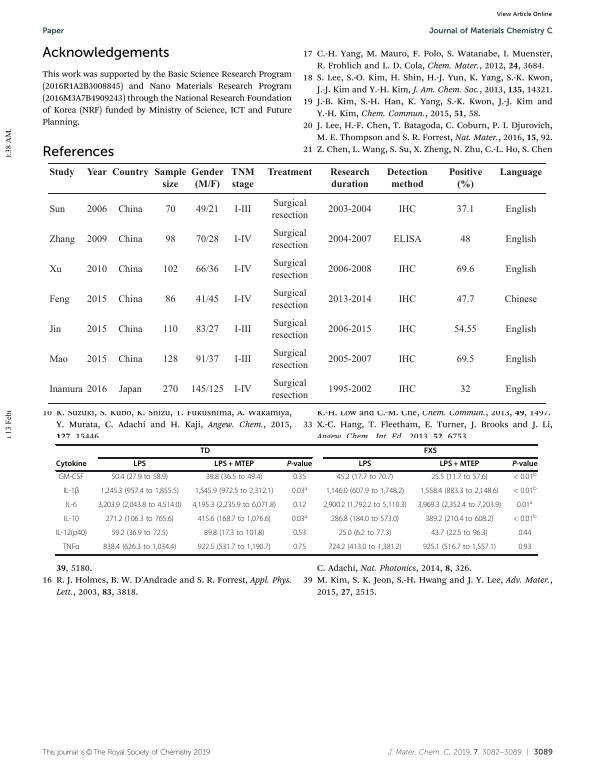borderless: (47, 162, 546, 403), (54, 443, 537, 554)
cell: (386, 168, 428, 191), (329, 168, 370, 191), (270, 228, 309, 252), (270, 199, 309, 222), (270, 258, 309, 281), (270, 288, 309, 311), (270, 318, 309, 341), (270, 348, 309, 371), (270, 378, 309, 401), (191, 501, 277, 511), (322, 501, 408, 511), (97, 501, 182, 511), (417, 501, 502, 511), (448, 168, 483, 191), (100, 487, 180, 497), (194, 487, 274, 497), (325, 487, 405, 497), (419, 487, 499, 497), (153, 168, 187, 191), (190, 168, 224, 191), (197, 515, 272, 525), (102, 543, 177, 553), (197, 543, 272, 553), (327, 543, 402, 553), (422, 543, 497, 553), (105, 515, 175, 525), (330, 515, 400, 525), (424, 515, 494, 525), (203, 529, 265, 539), (110, 473, 169, 483), (430, 473, 489, 483), (110, 529, 169, 539), (430, 529, 489, 539), (205, 473, 263, 483), (336, 473, 394, 483), (230, 168, 255, 191), (338, 529, 392, 539), (327, 234, 372, 246), (266, 168, 313, 179), (498, 168, 543, 179), (327, 205, 372, 216), (327, 264, 372, 275), (327, 294, 372, 305), (327, 324, 372, 335), (327, 354, 372, 365), (327, 384, 372, 395), (213, 460, 255, 470), (111, 168, 149, 179), (439, 460, 480, 470), (504, 234, 537, 246), (503, 294, 538, 305), (48, 384, 83, 395), (190, 384, 224, 395), (504, 205, 537, 216), (504, 264, 537, 275), (504, 324, 537, 335), (504, 354, 537, 365), (504, 384, 537, 395), (392, 234, 422, 246), (48, 234, 76, 246), (55, 529, 88, 539), (55, 460, 87, 470), (117, 234, 143, 246), (48, 168, 75, 179), (195, 234, 219, 246), (117, 205, 143, 216), (117, 264, 143, 275), (117, 294, 143, 305), (117, 324, 143, 335), (117, 354, 143, 365), (512, 472, 537, 483), (512, 486, 537, 497), (512, 514, 537, 525), (286, 460, 313, 470), (511, 460, 538, 470), (58, 473, 85, 483), (195, 205, 219, 216), (86, 234, 108, 246), (195, 264, 219, 275), (195, 294, 219, 305), (195, 324, 219, 335), (453, 324, 477, 335), (195, 354, 219, 365), (118, 384, 142, 395), (86, 168, 108, 179), (85, 205, 107, 216), (85, 264, 107, 275), (48, 294, 70, 305), (86, 294, 108, 305), (86, 324, 108, 335), (86, 354, 108, 365), (86, 384, 108, 395), (233, 234, 252, 246), (397, 205, 417, 216), (455, 205, 475, 216), (397, 264, 417, 275), (455, 264, 475, 275), (397, 294, 417, 305), (455, 294, 475, 305), (397, 324, 417, 335), (48, 354, 68, 365), (397, 354, 417, 365), (455, 354, 475, 365), (397, 384, 417, 395), (233, 205, 252, 216), (233, 264, 252, 275), (233, 294, 252, 305), (233, 324, 252, 335), (233, 354, 252, 365), (233, 384, 252, 395), (48, 205, 66, 216), (291, 486, 308, 497), (516, 500, 533, 511), (291, 514, 308, 525), (162, 264, 179, 275), (162, 354, 179, 365), (162, 384, 179, 395), (62, 487, 80, 497), (62, 543, 80, 553), (162, 324, 178, 335), (63, 515, 80, 525), (48, 264, 62, 275), (48, 324, 62, 335), (132, 460, 147, 470), (292, 473, 307, 483), (292, 501, 307, 511), (292, 529, 307, 539), (517, 529, 532, 539), (292, 543, 307, 553), (517, 543, 532, 553), (164, 234, 176, 246), (459, 234, 471, 246), (358, 460, 372, 470), (64, 501, 78, 511), (423, 447, 438, 456), (164, 205, 176, 216), (164, 294, 176, 305), (459, 384, 471, 395), (199, 447, 211, 456)
